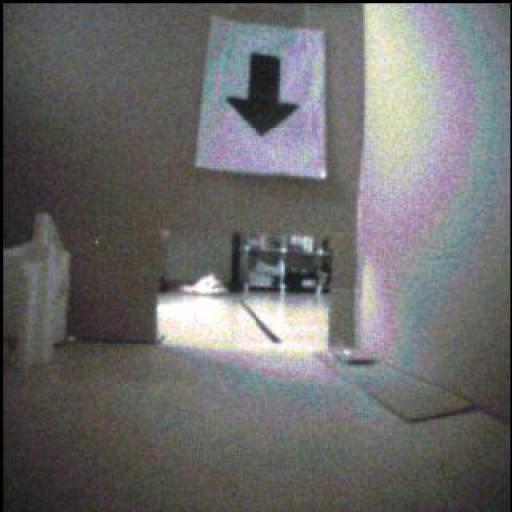arrow: (228, 54, 299, 137)
